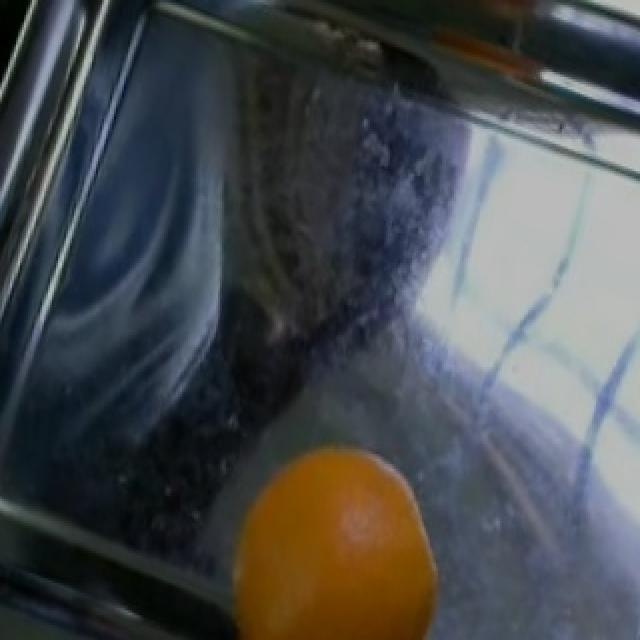Fruit: (202, 432, 456, 638)
